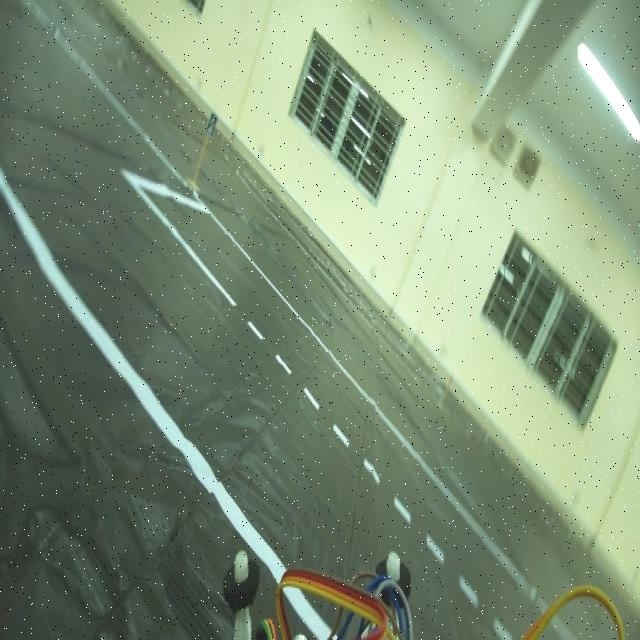highway_exit: (207, 103, 219, 143)
